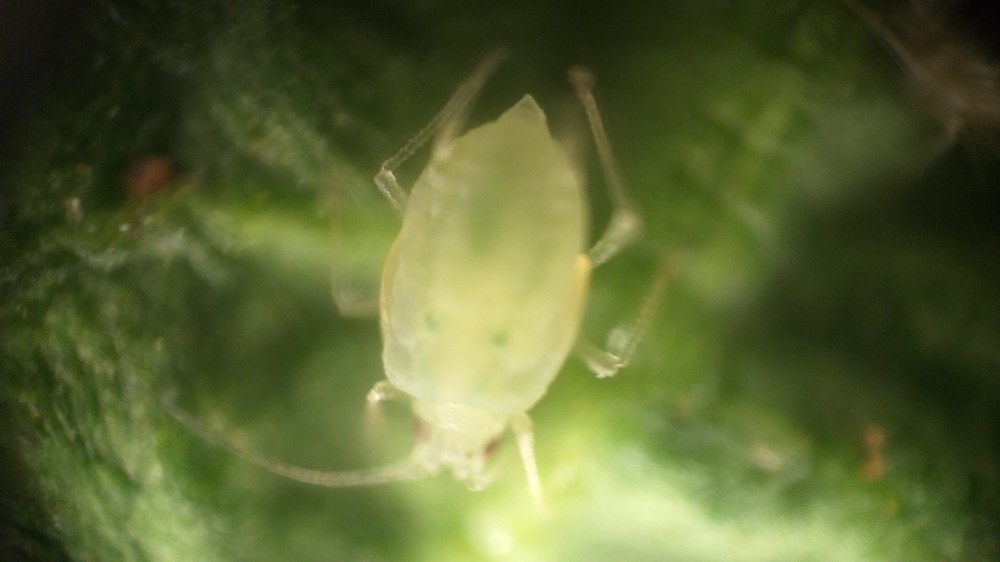Pulgon: (218, 24, 719, 555)
